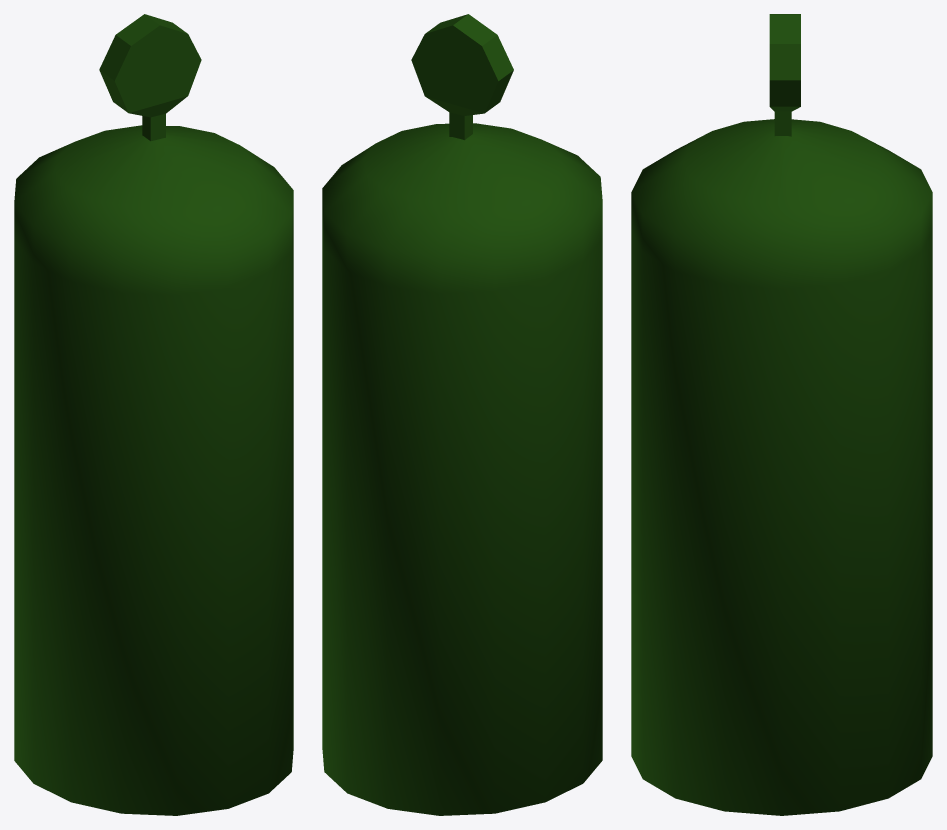
File: tauchflasche.fbx
The picture shows the model from 3 angles, left to right: view 1: azimuth 30°, elevation 25°; view 2: azimuth 150°, elevation 25°; view 3: azimuth 270°, elevation 25°; orthographic projection.
Parts seen in each view (by area): view 1: Cube.001; view 2: Cube.001; view 3: Cube.001.
Boxes of the visible parts, left/top/right/bottom form: Cube.001: left=14, top=14, right=293, bottom=815; Cube.001: left=322, top=14, right=602, bottom=815; Cube.001: left=631, top=14, right=932, bottom=815.
Bounding box in the file's own units: 38.65 × 116 × 41.39.
